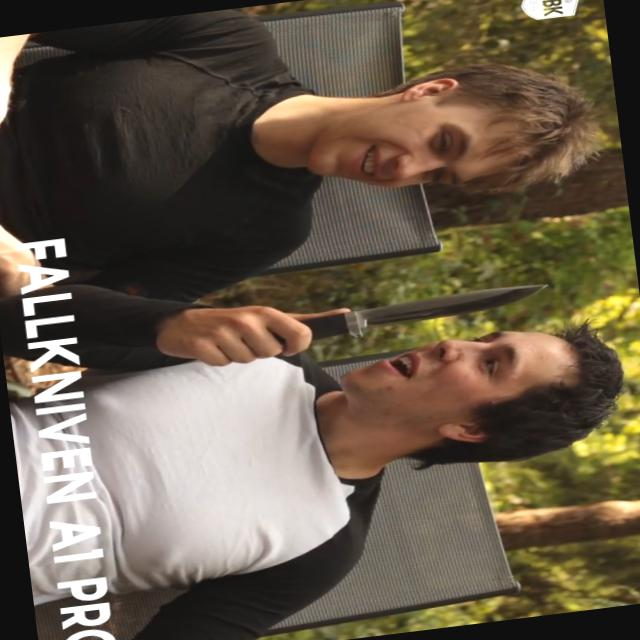knife: (224, 275, 566, 371)
